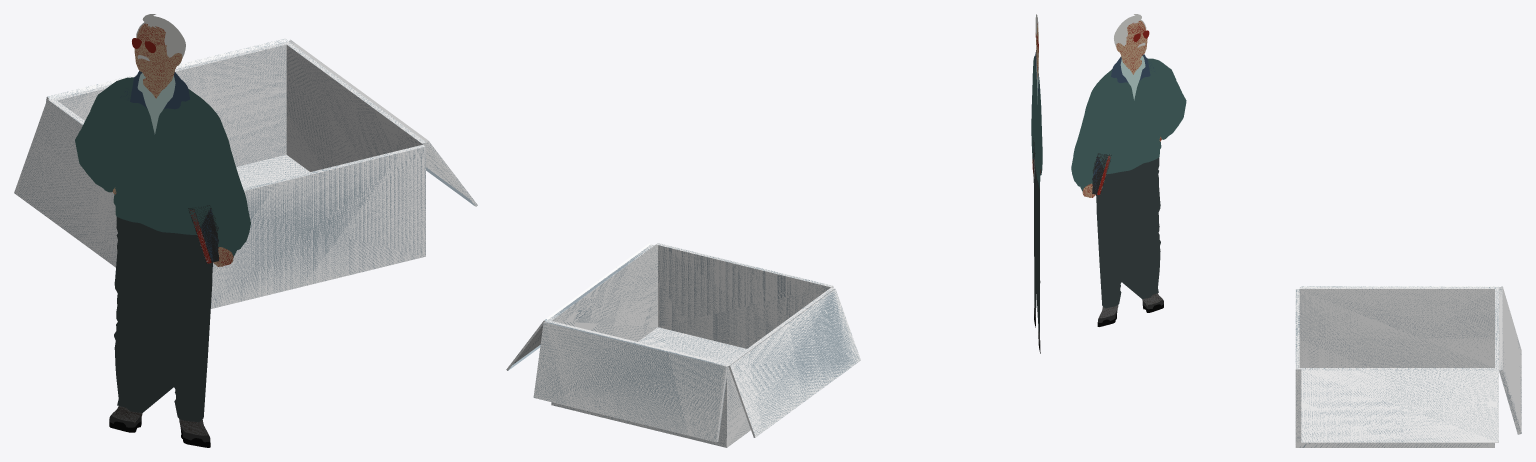
The picture shows the model from 3 angles, left to right: view 1: azimuth 30°, elevation 25°; view 2: azimuth 150°, elevation 25°; view 3: azimuth 270°, elevation 25°; orthographic projection. The views are drawn at different scales.
Visible parts, largest first — view 1: Model, Steve1; view 2: Model, Steve1; view 3: Model, Steve1.
Boxes of the visible parts, x1,y1,x2,y2 form: Model: (14, 38, 477, 308); Steve1: (75, 14, 250, 447); Model: (506, 243, 860, 447); Steve1: (1031, 14, 1042, 353); Model: (1295, 286, 1521, 447); Steve1: (1071, 14, 1186, 326).
Size of the model in its own units: 2.02 by 1.69 by 2.28.
